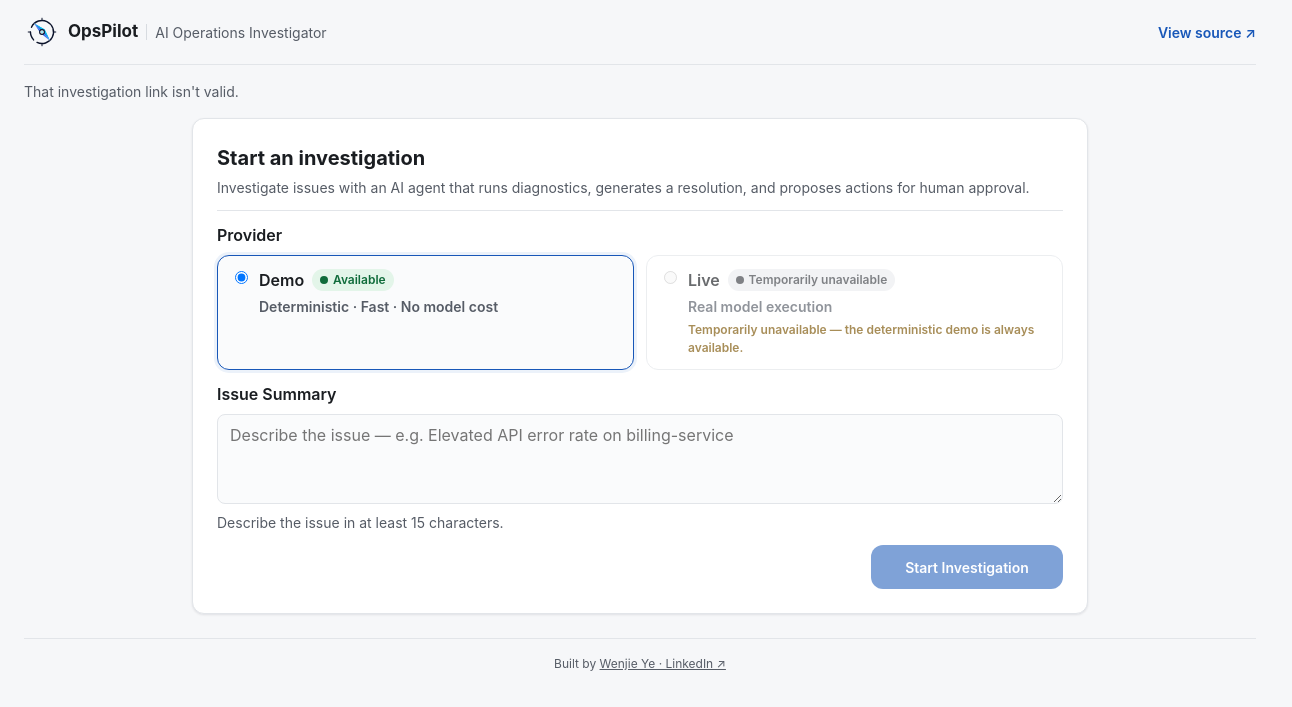
Test: Initial submission — outcome-aware progress › FAILED: run stage Failed, approval never starts, elapsed freezes, live region announces the failure, Report shows failure details, jump link present
The width and height of the screenshot is (1292, 707).
Type "Elevated error rate" into the text box labelled "Issue Summary" at (640, 459), box [217,414,1063,504]
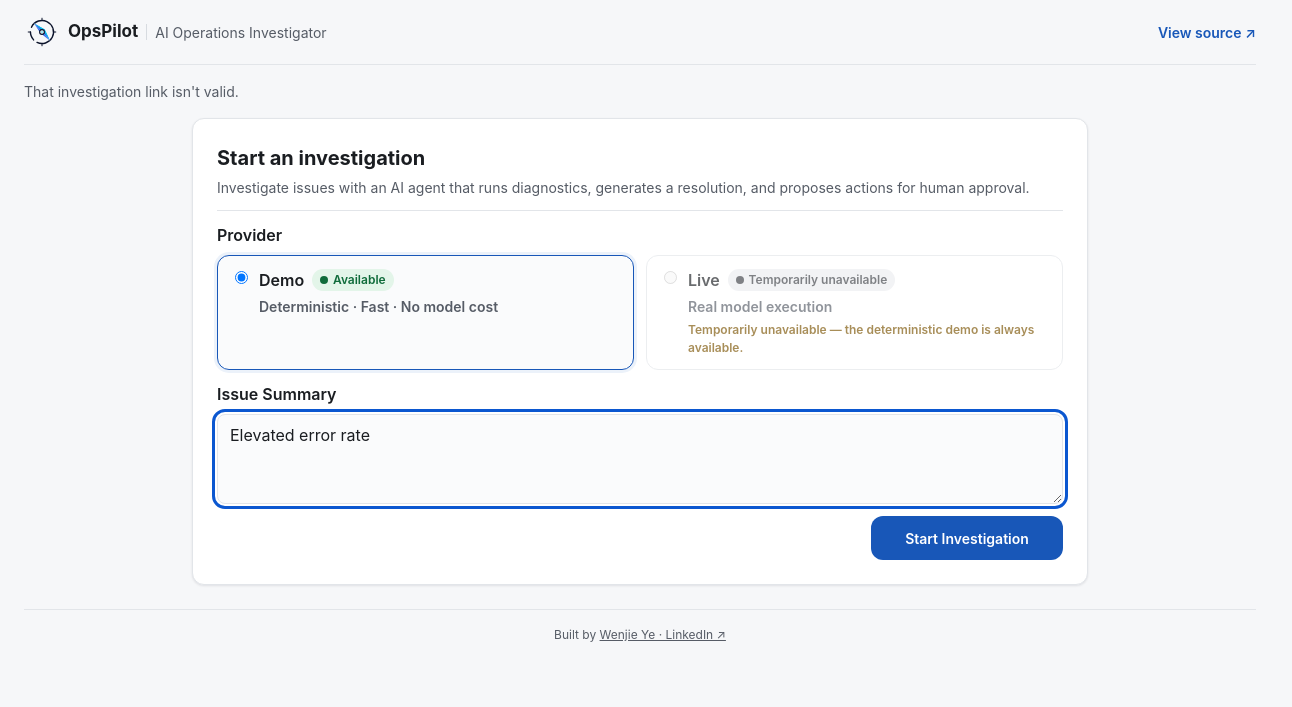
Click the button "Start Investigation" at (967, 538), box [871,516,1063,560]
Wait 3000 ms
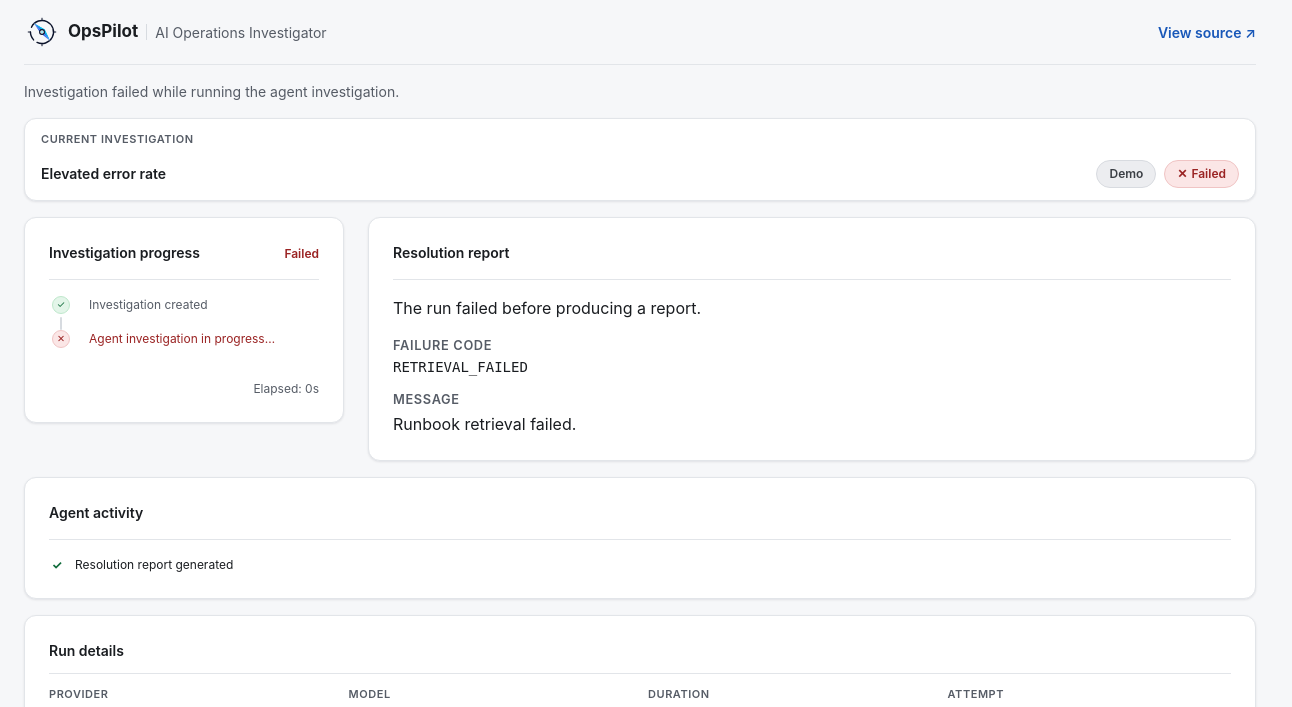
Now the heading "Resolution report" is shown, box [393,242,510,262]
Now the message reads "Investigation failed while running the agent investigation.", box [24,83,399,100]
Now the text "RETRIEVAL_FAILED" is shown, box [393,359,528,375]
